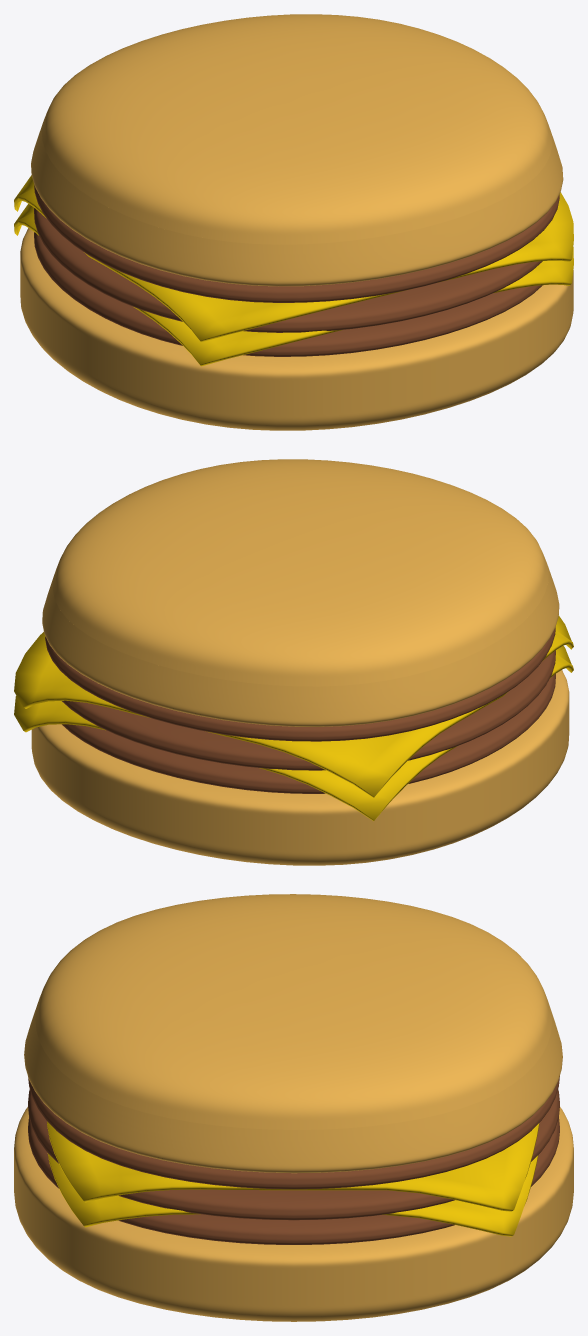
Rendered from hamburger.glb.
3 views of the same model, one above another, from view 1: azimuth 30°, elevation 25°; view 2: azimuth 150°, elevation 25°; view 3: azimuth 270°, elevation 25° (orthographic). The views are drawn at different scales.
Visible parts, largest first — view 1: bottombun.001, bottombun, meat.001, meat, meat.002, Plane.001, Plane; view 2: bottombun.001, bottombun, Plane.001, meat.001, meat, meat.002, Plane; view 3: bottombun.001, bottombun, Plane.001, meat.001, meat.002, meat, Plane.
Part boxes in pixels (<box>): bottombun.001: <box>31,14,563,286</box>; bottombun: <box>20,228,573,430</box>; meat.001: <box>34,208,542,332</box>; meat: <box>34,232,542,356</box>; meat.002: <box>34,185,559,302</box>; Plane.001: <box>14,175,573,342</box>; Plane: <box>14,204,573,366</box>; bottombun.001: <box>42,459,559,726</box>; bottombun: <box>31,670,569,865</box>; Plane.001: <box>14,615,573,797</box>; meat.001: <box>62,650,555,770</box>; meat: <box>62,674,555,793</box>; meat.002: <box>45,627,555,741</box>; Plane: <box>14,645,573,821</box>; bottombun.001: <box>24,894,562,1173</box>; bottombun: <box>14,1107,573,1321</box>; Plane.001: <box>47,1121,539,1211</box>; meat.001: <box>28,1089,559,1220</box>; meat.002: <box>28,1076,559,1189</box>; meat: <box>28,1117,559,1244</box>; Plane: <box>47,1153,538,1236</box>.
Bounding box in the file's own units: 9.13 × 4.68 × 9.13.
